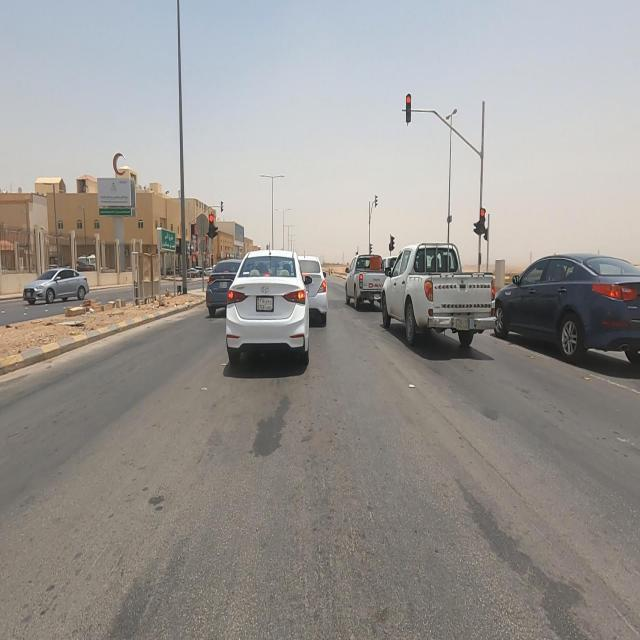debris: (63, 258, 138, 342), (43, 271, 109, 357)
